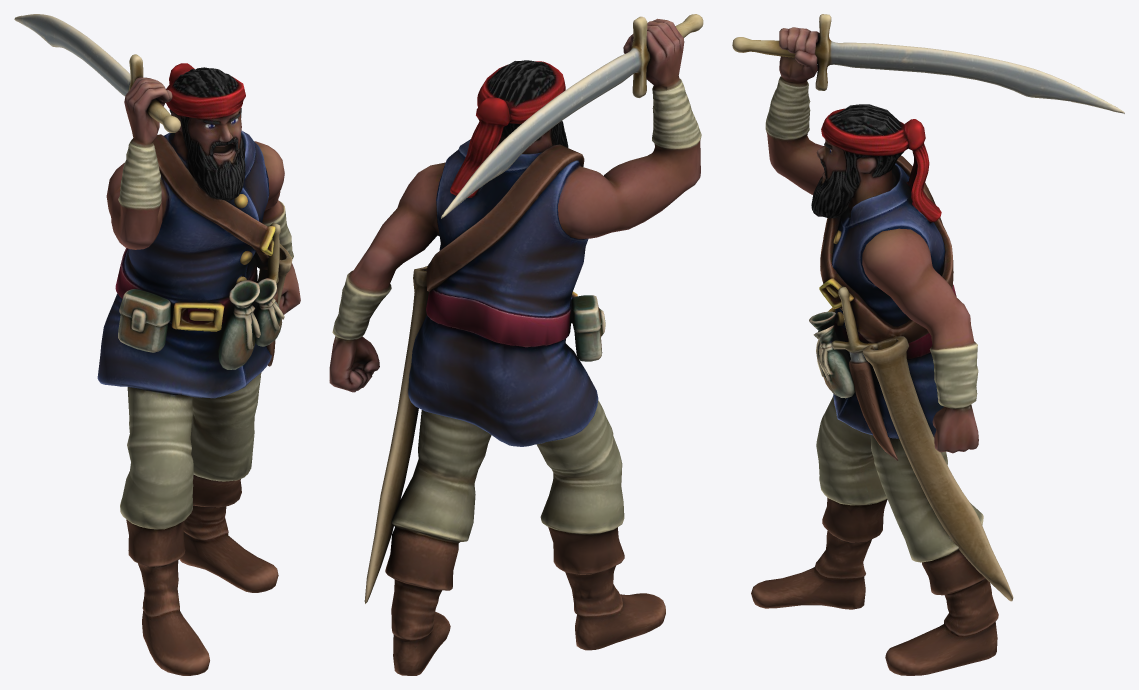
File: MZ4250 - Bandit Captain 01.glb
3 views of the same model, side by side, from view 1: azimuth 30°, elevation 25°; view 2: azimuth 150°, elevation 25°; view 3: azimuth 270°, elevation 25° (orthographic). The views are drawn at different scales.
Parts seen in each view (by area): view 1: body_high.002, thing_high.002, blade_high.002, puch_high.002, bag1_low.001, bag2_high.002, dag_high.002; view 2: body_high.002, thing_high.002, blade_high.002, puch_high.002; view 3: body_high.002, thing_high.002, blade_high.002, dag_high.002, bag2_high.002, bag1_low.001.
Part boxes in pixels (x1=…): body_high.002: x1=97, y1=63, x2=300, y2=675; thing_high.002: x1=153, y1=134, x2=292, y2=374; blade_high.002: x1=14, y1=14, x2=180, y2=132; puch_high.002: x1=118, y1=289, x2=170, y2=352; bag1_low.001: x1=218, y1=280, x2=260, y2=369; bag2_high.002: x1=254, y1=278, x2=284, y2=346; dag_high.002: x1=266, y1=222, x2=280, y2=366; body_high.002: x1=329, y1=18, x2=701, y2=675; thing_high.002: x1=364, y1=144, x2=584, y2=603; blade_high.002: x1=441, y1=14, x2=703, y2=218; puch_high.002: x1=572, y1=295, x2=605, y2=361; body_high.002: x1=751, y1=27, x2=998, y2=675; thing_high.002: x1=819, y1=155, x2=1013, y2=601; blade_high.002: x1=732, y1=14, x2=1124, y2=113; dag_high.002: x1=831, y1=286, x2=897, y2=460; bag2_high.002: x1=813, y1=325, x2=854, y2=398; bag1_low.001: x1=809, y1=311, x2=849, y2=397.
Size of the model in its own units: 2.72 by 6 by 3.69.
Materials: 1 (1 with a texture image).
